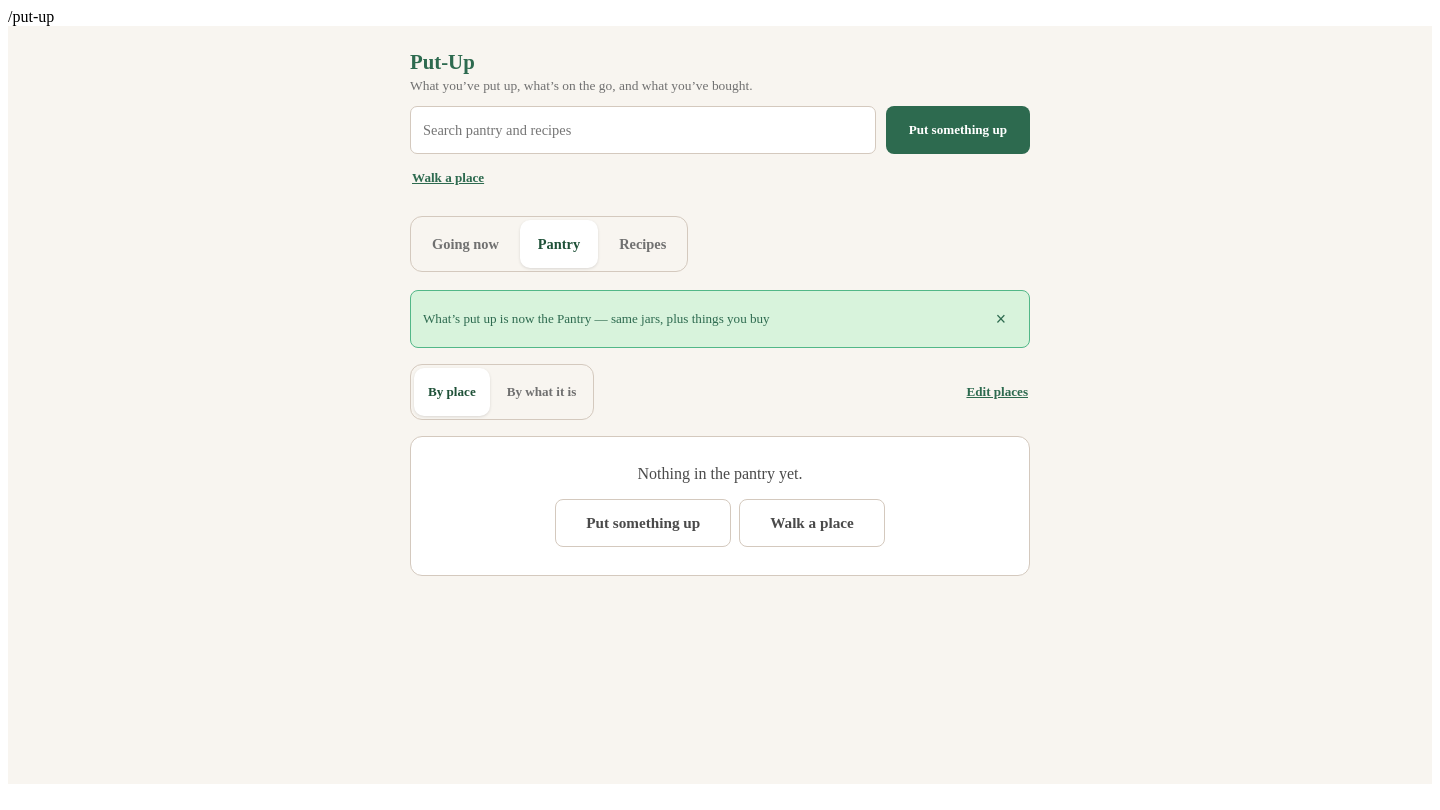
Test: the walk is a MODE FLAG, not a new page › without the param the page is untouched, and offers "Walk a place" as its door
The image size is (1440, 810).
Expected: the heading "Put-Up" is shown, [410,50,475,73]
Expected: the element "Which place are you at?" is not shown
Click the button with test id "putup-walk-door" at [448, 178], box [410,154,486,202]
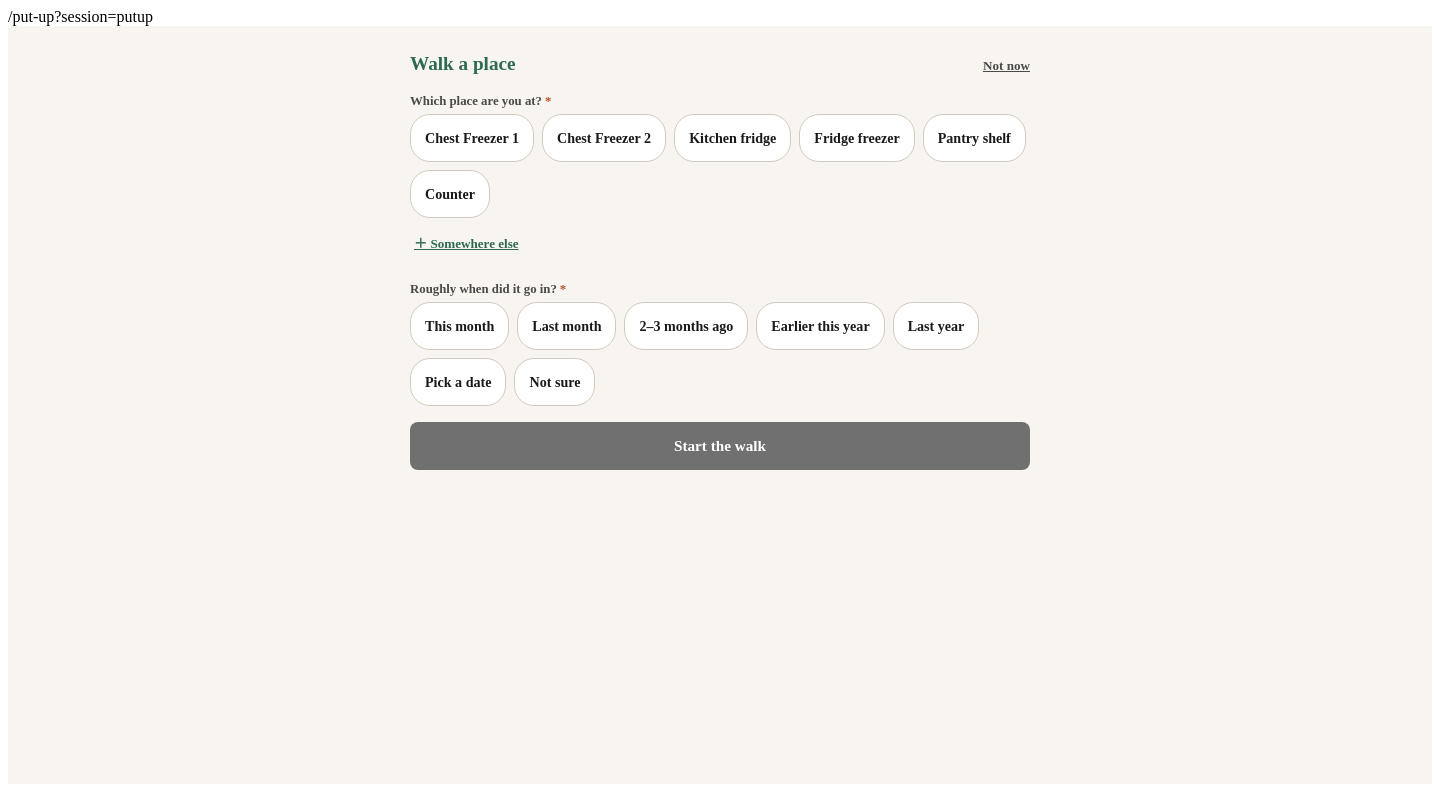
Now the heading "Walk a place" is shown, box [410,53,516,74]
Now the text with test id "probe-loc" reads "/put-up?session=putup", box [8,8,153,25]
